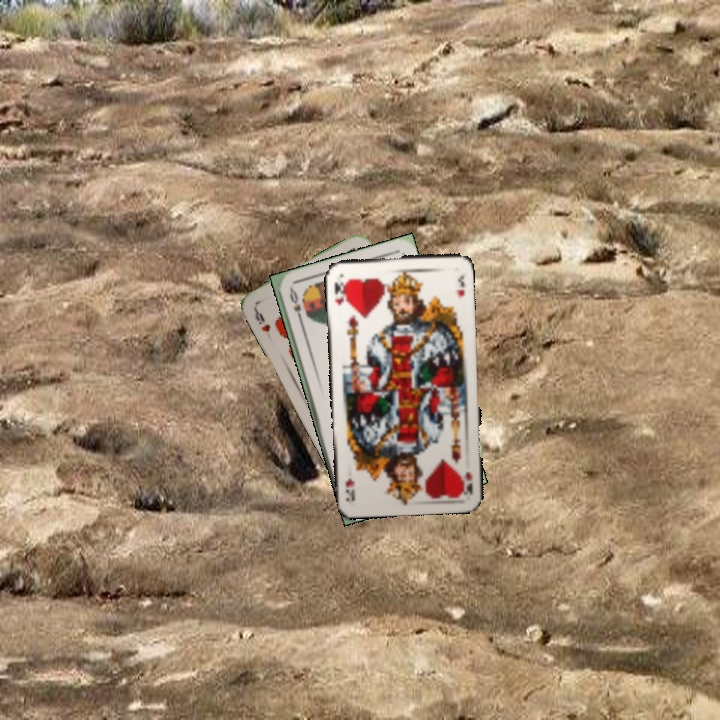H9: (250, 304, 273, 335)
HK: (330, 278, 349, 308), (459, 468, 475, 496)
SO: (285, 285, 305, 325)
